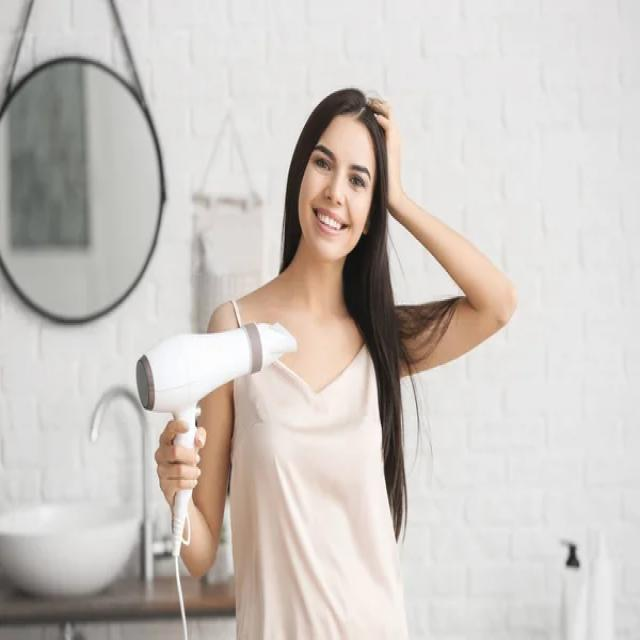dryer: (119, 306, 302, 568)
